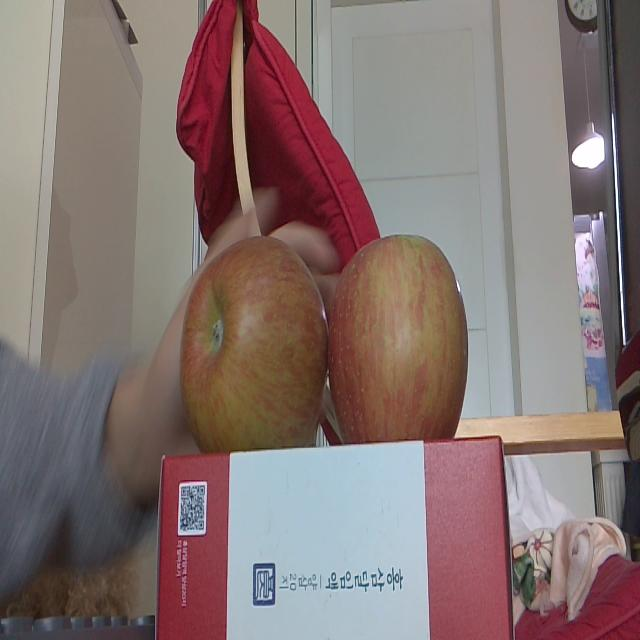apple: (180, 235, 328, 447), (326, 236, 468, 438)
